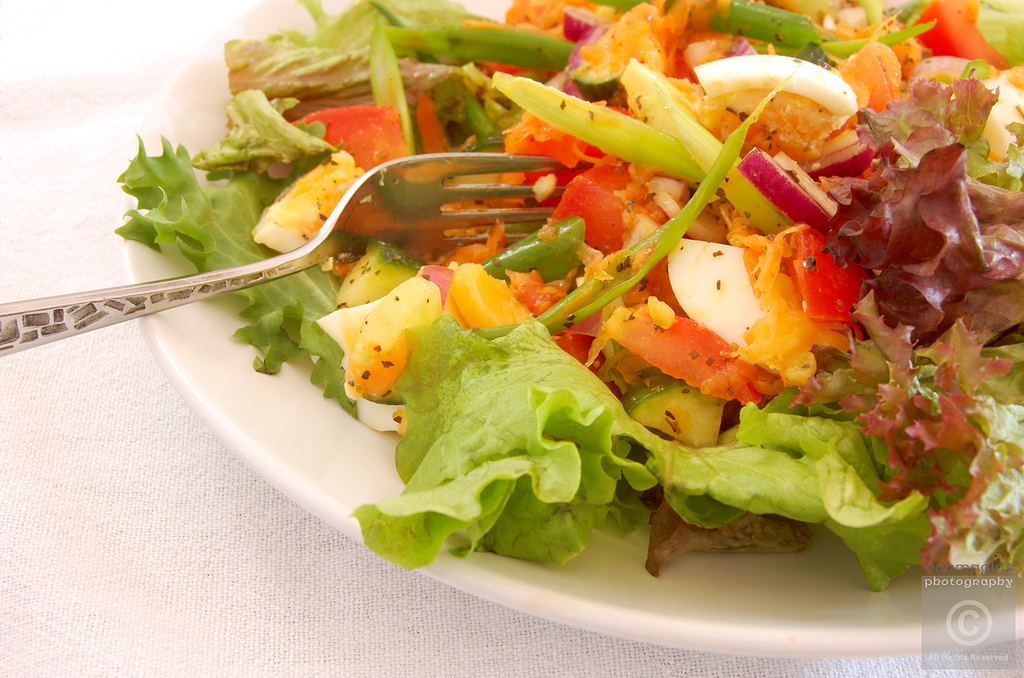chopped lettuce: (391, 345, 867, 581), (861, 123, 1024, 503), (120, 148, 357, 378), (254, 4, 610, 149)
